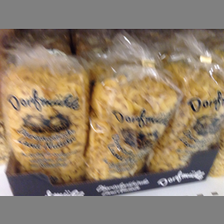pasta: (1, 53, 90, 182), (90, 55, 176, 178), (152, 61, 223, 170)
